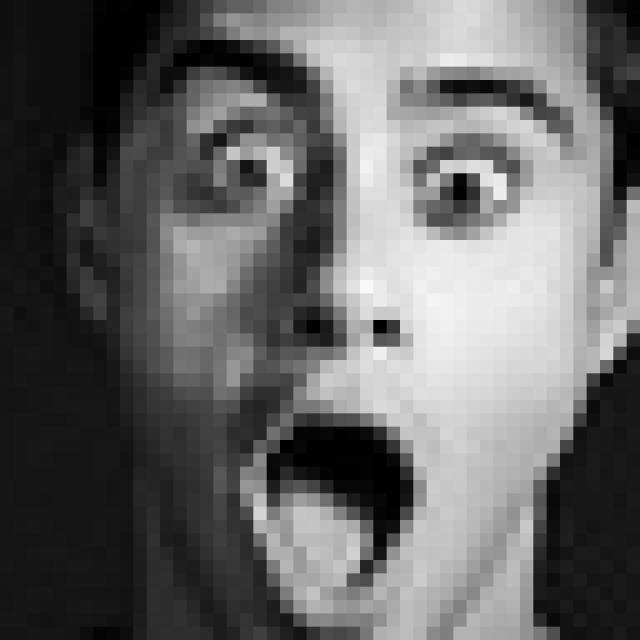surprise: (139, 37, 582, 640)
